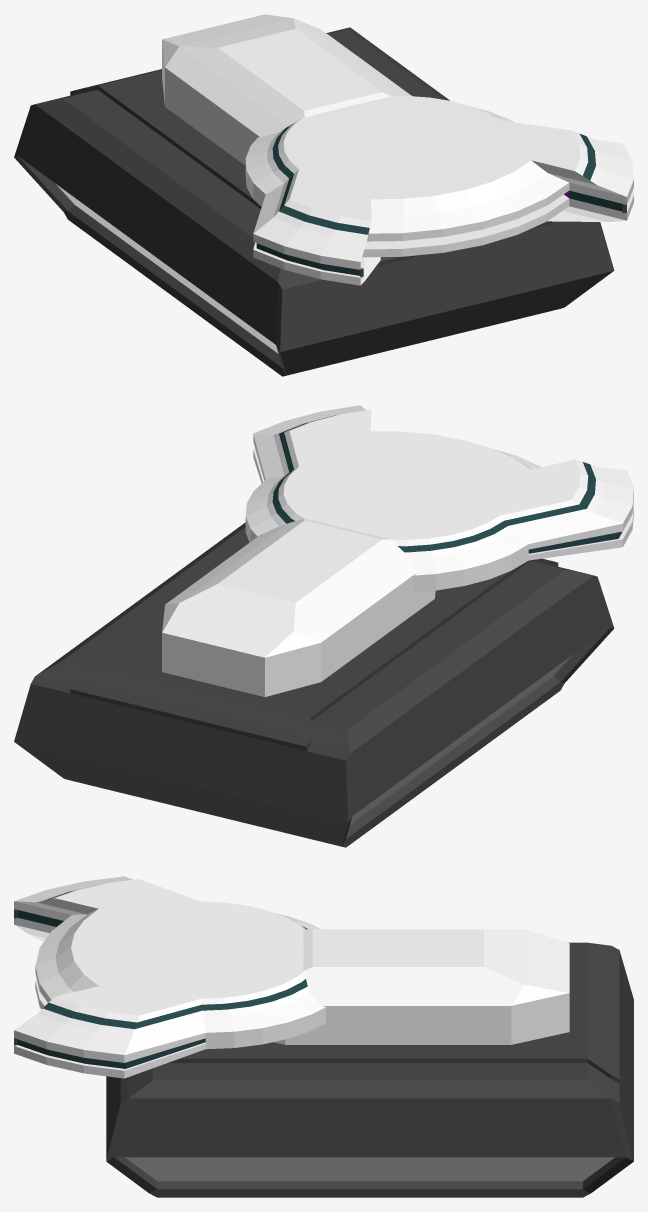
File: BladeFlinger .fbx
The picture shows the model from 3 angles, top to bottom: view 1: azimuth 30°, elevation 25°; view 2: azimuth 150°, elevation 25°; view 3: azimuth 270°, elevation 25°; orthographic projection.
Parts seen in each view (by area): view 1: Blade Thower, Body; view 2: Body, Blade Thower; view 3: Body, Blade Thower.
Part boxes in pixels (x1,y1,x2,y2): Blade Thower: [162, 14, 633, 285]; Body: [14, 27, 614, 376]; Body: [14, 522, 614, 847]; Blade Thower: [162, 405, 633, 696]; Body: [106, 942, 633, 1197]; Blade Thower: [14, 876, 569, 1078].
Size of the model in its own units: 1.19 by 0.5678 by 1.74.
2 materials, 2 textured.
